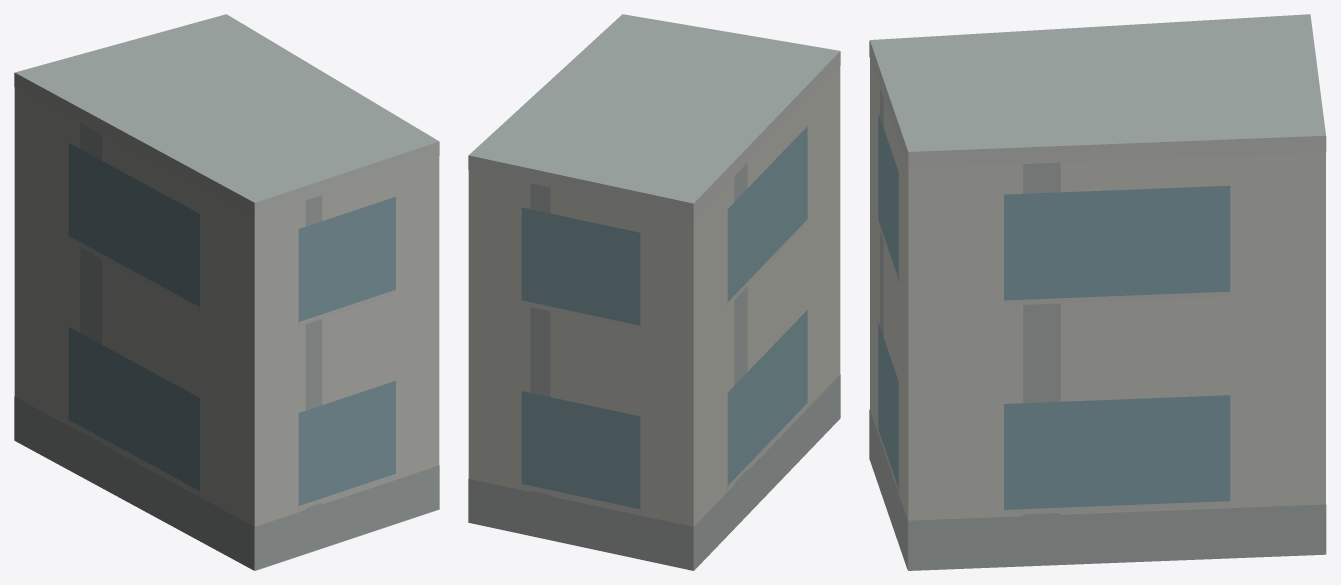
The model's file is survey-upis-32726080.glb.
3 renders of one model, left to right at view 1: azimuth 30°, elevation 25°; view 2: azimuth 150°, elevation 25°; view 3: azimuth 270°, elevation 25°, orthographic. The views are drawn at different scales.
Parts seen in each view (by area): view 1: survey-upis-32726080.tmp; view 2: survey-upis-32726080.tmp; view 3: survey-upis-32726080.tmp.
Boxes of the visible parts, bbox=[...] form: survey-upis-32726080.tmp: bbox=[14, 14, 439, 570]; survey-upis-32726080.tmp: bbox=[468, 14, 840, 570]; survey-upis-32726080.tmp: bbox=[869, 14, 1326, 570].
Size of the model in its own units: 4.31 by 6.1 by 6.03.
